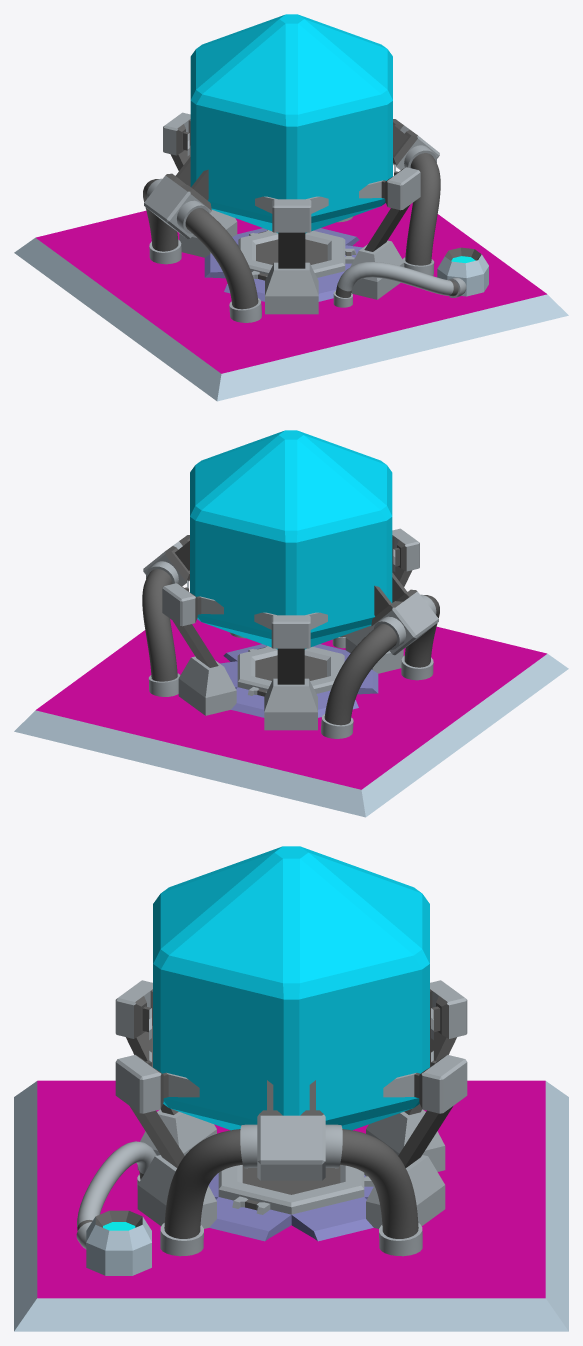
The model's file is Reservoir5.fbx.
3 views of the same model, one above another, from view 1: azimuth 30°, elevation 25°; view 2: azimuth 150°, elevation 25°; view 3: azimuth 270°, elevation 25° (orthographic). The views are drawn at different scales.
Visible parts, largest first — view 1: foundation_5, pSphere27, pCylinder87 (×2), installation5, pCube119 (×3), pCylinder86, pCube139, alch_base4, pCube134, pCube140, alch_beacon, pCube142 (+1 smaller); view 2: foundation_5, pSphere27, pCylinder86 (×2), installation5, pCube119 (×3), pCylinder87, pCube142, pCube141, pCube134, pCube139, pCube135; view 3: foundation_5, pSphere27, pCube119 (×4), installation5, pCylinder86, pCylinder87, pCube135, alch_beacon, pCube140, pCube141, alch_base4, pCube142 (+1 smaller).
Part boxes in pixels (x1,y1,x2,y2): foundation_5: (14, 203, 568, 401); pSphere27: (190, 14, 392, 233); pCylinder87 (×2): (143, 145, 440, 275); installation5: (204, 228, 362, 301); pCube119 (×3): (163, 112, 420, 232); pCylinder86: (177, 200, 261, 322); pCube139: (265, 232, 318, 314); alch_base4: (333, 262, 466, 307); pCube134: (144, 157, 211, 239); pCube140: (350, 205, 409, 299); alch_beacon: (437, 247, 488, 296); pCube142: (170, 145, 237, 257); foundation_5: (14, 619, 568, 817); pSphere27: (190, 430, 392, 649); pCylinder86 (×2): (142, 561, 439, 696); installation5: (220, 644, 378, 717); pCube119 (×3): (162, 528, 419, 648); pCylinder87: (321, 616, 405, 738); pCube142: (264, 648, 317, 730); pCube141: (173, 621, 236, 715); pCube134: (371, 573, 438, 655); pCube139: (345, 561, 412, 673); pCube135: (143, 535, 189, 586); foundation_5: (14, 1080, 568, 1331); pSphere27: (153, 846, 429, 1130); pCube119 (×4): (115, 980, 467, 1113); installation5: (208, 1165, 373, 1241); pCylinder86: (325, 1124, 422, 1256); pCylinder87: (160, 1124, 257, 1256); pCube135: (257, 1080, 325, 1180); alch_beacon: (86, 1210, 151, 1275); pCube140: (130, 1106, 216, 1228); pCube141: (366, 1106, 452, 1228); alch_base4: (76, 1141, 156, 1249); pCube142: (366, 1025, 456, 1171).
Bounding box in the file's own units: 2 × 1.44 × 2.
